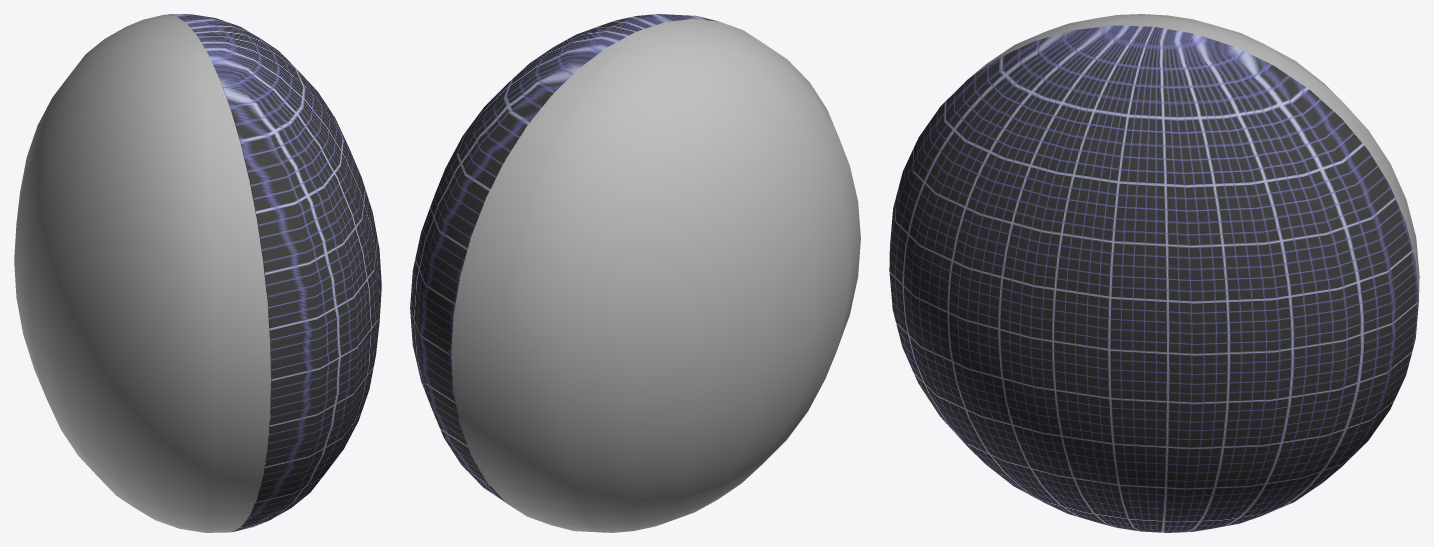
Rendered from New Glass.fbx.
The picture shows the model from 3 angles, left to right: view 1: azimuth 30°, elevation 25°; view 2: azimuth 150°, elevation 25°; view 3: azimuth 270°, elevation 25°; orthographic projection. The views are drawn at different scales.
Visible parts, largest first — view 1: ExteriorGlass, GalaxGrid; view 2: ExteriorGlass, GalaxGrid; view 3: GalaxGrid, ExteriorGlass.
Part boxes in pixels (x1,y1,x2,y2): ExteriorGlass: (14,14,270,532); GalaxGrid: (167,14,381,531); ExteriorGlass: (451,18,860,532); GalaxGrid: (410,14,717,510); GalaxGrid: (889,25,1418,532); ExteriorGlass: (947,14,1419,455).
Bounding box in the file's own units: 55.86 × 80.01 × 77.9.
